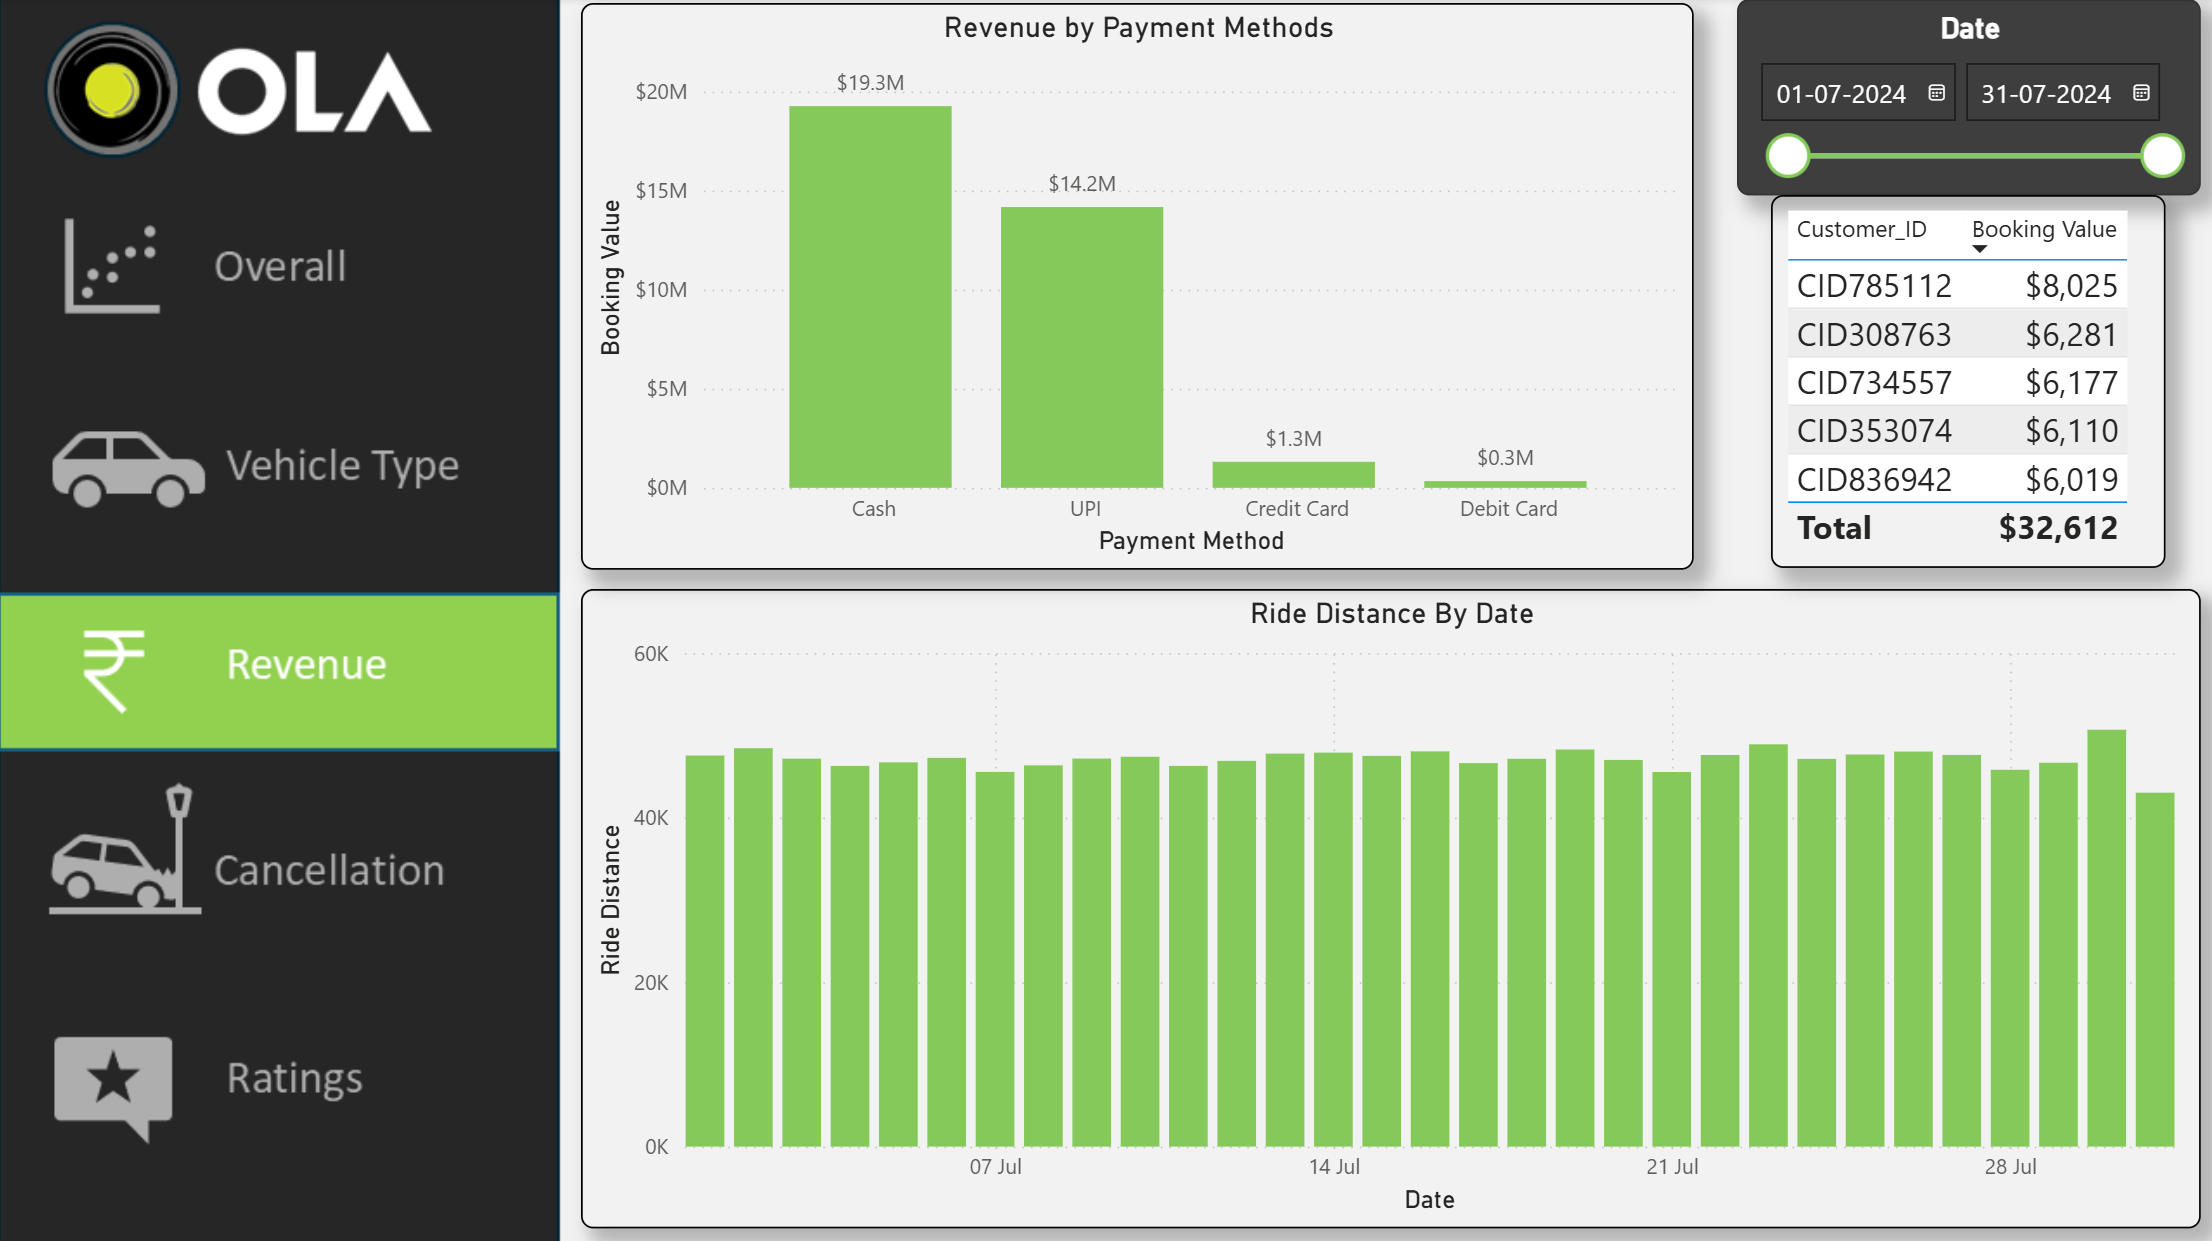

This screenshot's page, from the dashboard's own definition file:
{"tool":"powerbi","page":{"name":"Revenue","canvas":[1280,720],"ordinal":2},"visuals":[{"type":"actionButton","box":[0,111.8,324.6,94.9],"z":0},{"type":"actionButton","box":[0,220.5,324.6,94.9],"z":1000},{"type":"actionButton","box":[0,341.4,324.6,94.9],"z":2000},{"type":"actionButton","box":[0,451.7,324.6,94.9],"z":3000},{"type":"actionButton","box":[0,576.3,323.8,95.6],"z":4000},{"type":"slicer","title":"Date","fields":{"Values":["Bookings.Date"]},"box":[1004.4,1.5,267.9,113.3],"z":5000},{"type":"columnChart","title":"Revenue by Payment Methods","fields":{"Category":["Bookings.Payment_Method"],"Y":["Sum(Bookings.Booking_Value)"]},"box":[336.8,3.1,643.1,327.7],"z":6000},{"type":"columnChart","title":"Ride Distance By Date","fields":{"Category":["Bookings.Date"],"Y":["Sum(Bookings.Ride_Distance)"]},"box":[336.6,341.7,935.8,369.7],"z":7000},{"type":"tableEx","fields":{"Values":["Bookings.Customer_ID","Sum(Bookings.Booking_Value)"]},"box":[1023.7,114.7,228.2,215.5],"z":8000}]}

Visuals, with their boxes in screenshot pixels (x1, y1, x2, y2), scaled from the page's 1280x720 canvas onto the 2212x1241 screenshot:
actionButton: bbox=[0, 193, 561, 356]
actionButton: bbox=[0, 380, 561, 544]
actionButton: bbox=[0, 588, 561, 752]
actionButton: bbox=[0, 779, 561, 942]
actionButton: bbox=[0, 993, 560, 1158]
"Date" slicer: bbox=[1736, 3, 2199, 198]
"Revenue by Payment Methods" columnChart: bbox=[582, 5, 1693, 570]
"Ride Distance By Date" columnChart: bbox=[582, 589, 2199, 1226]
tableEx - Bookings.Customer_ID x Sum(Bookings.Booking_Value): bbox=[1769, 198, 2163, 569]
